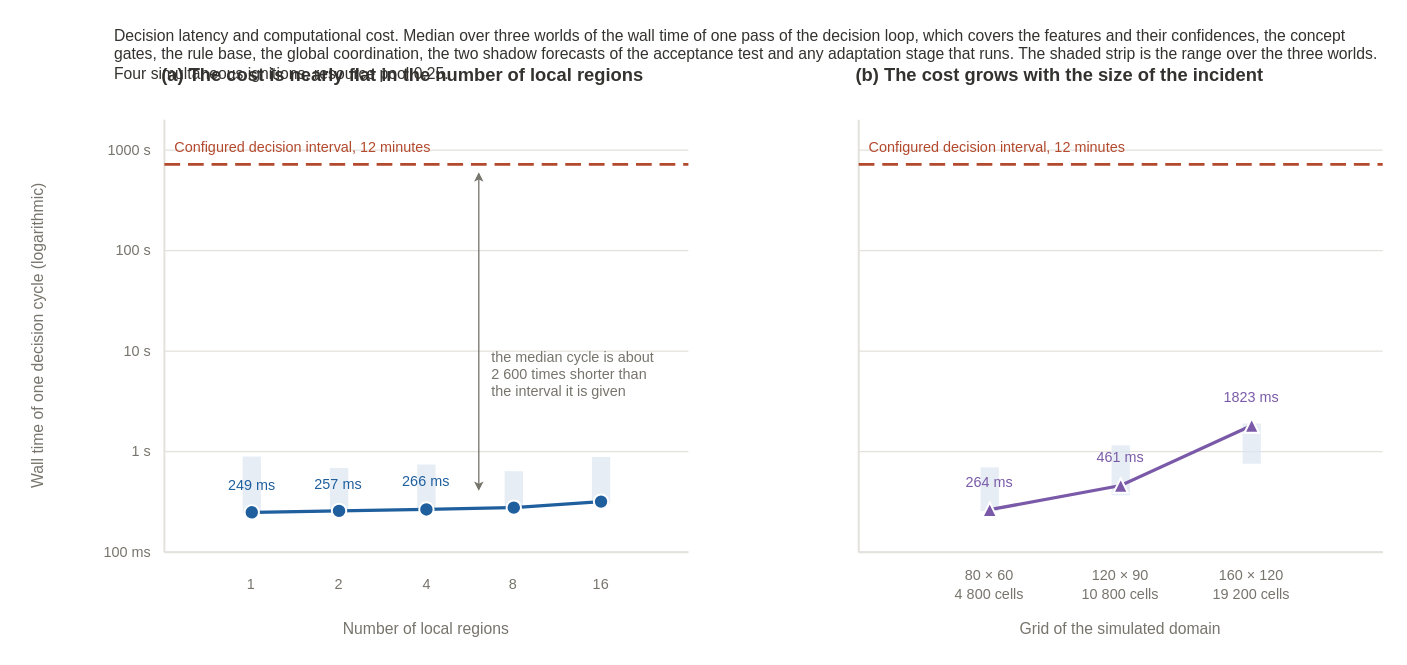
Some shapes in this 1407 by 665 pixel diagram are drawn without their labels. The centre of each missing label's shape, as x and y in pixels:
"277 ms" goes at (x=513, y=489).
"319 ms" goes at (x=600, y=479).
